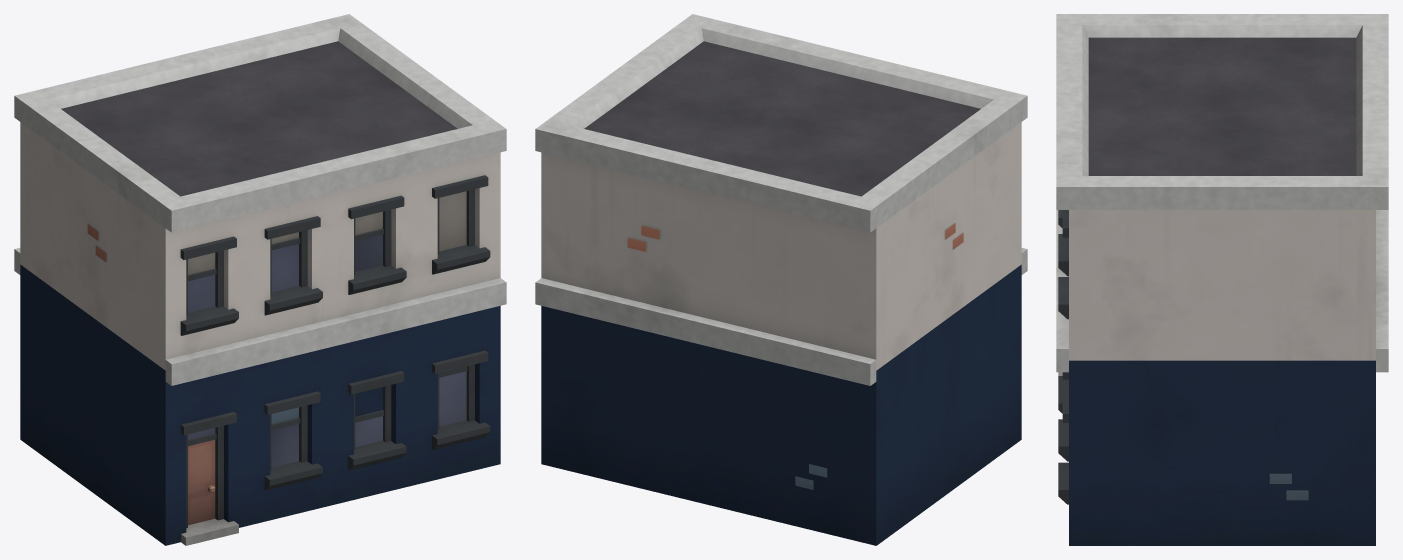
The model's file is building_B.glb.
The picture shows the model from 3 angles, left to right: view 1: azimuth 30°, elevation 25°; view 2: azimuth 150°, elevation 25°; view 3: azimuth 270°, elevation 25°; orthographic projection. The views are drawn at different scales.
Visible parts, largest first — view 1: building_B_withoutBase; view 2: building_B_withoutBase; view 3: building_B_withoutBase.
Part boxes in pixels (bbox=[...]): building_B_withoutBase: bbox=[14, 14, 506, 545]; building_B_withoutBase: bbox=[535, 14, 1027, 545]; building_B_withoutBase: bbox=[1056, 14, 1388, 545].
Size of the model in its own units: 1.61 by 1.55 by 1.3.
2 materials, 2 textured.
